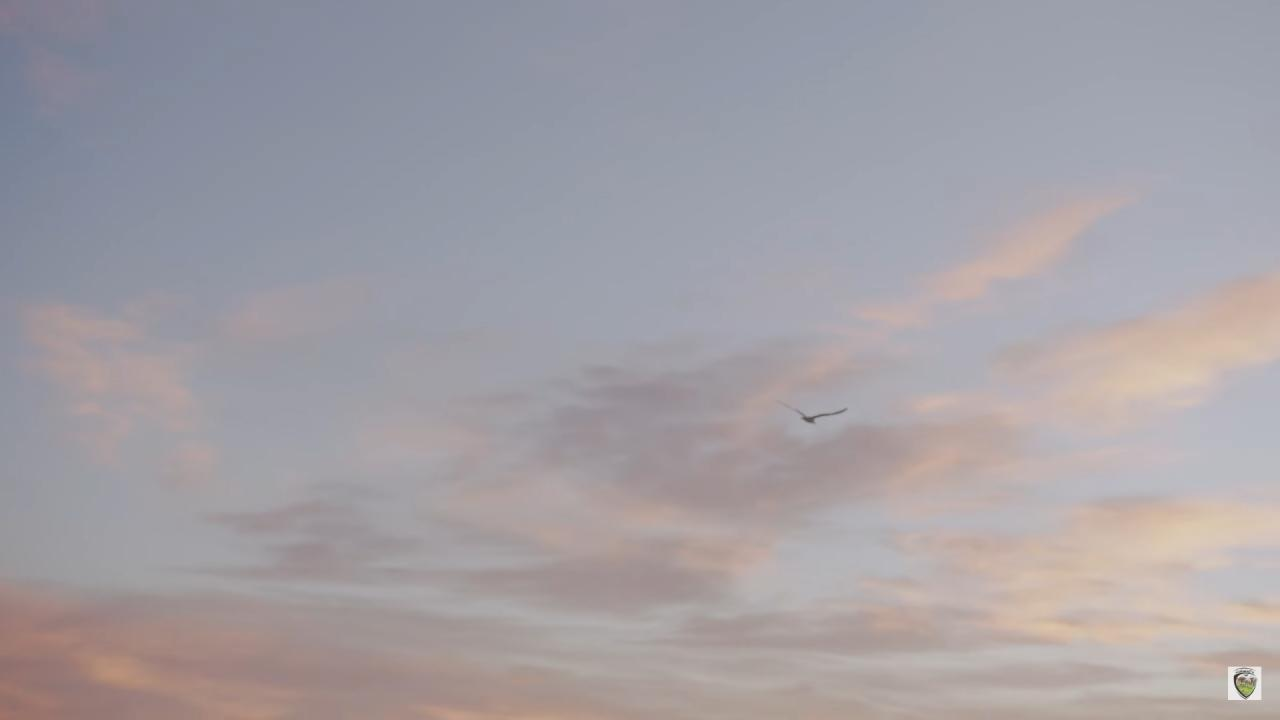Bird: (760, 391, 856, 436)
